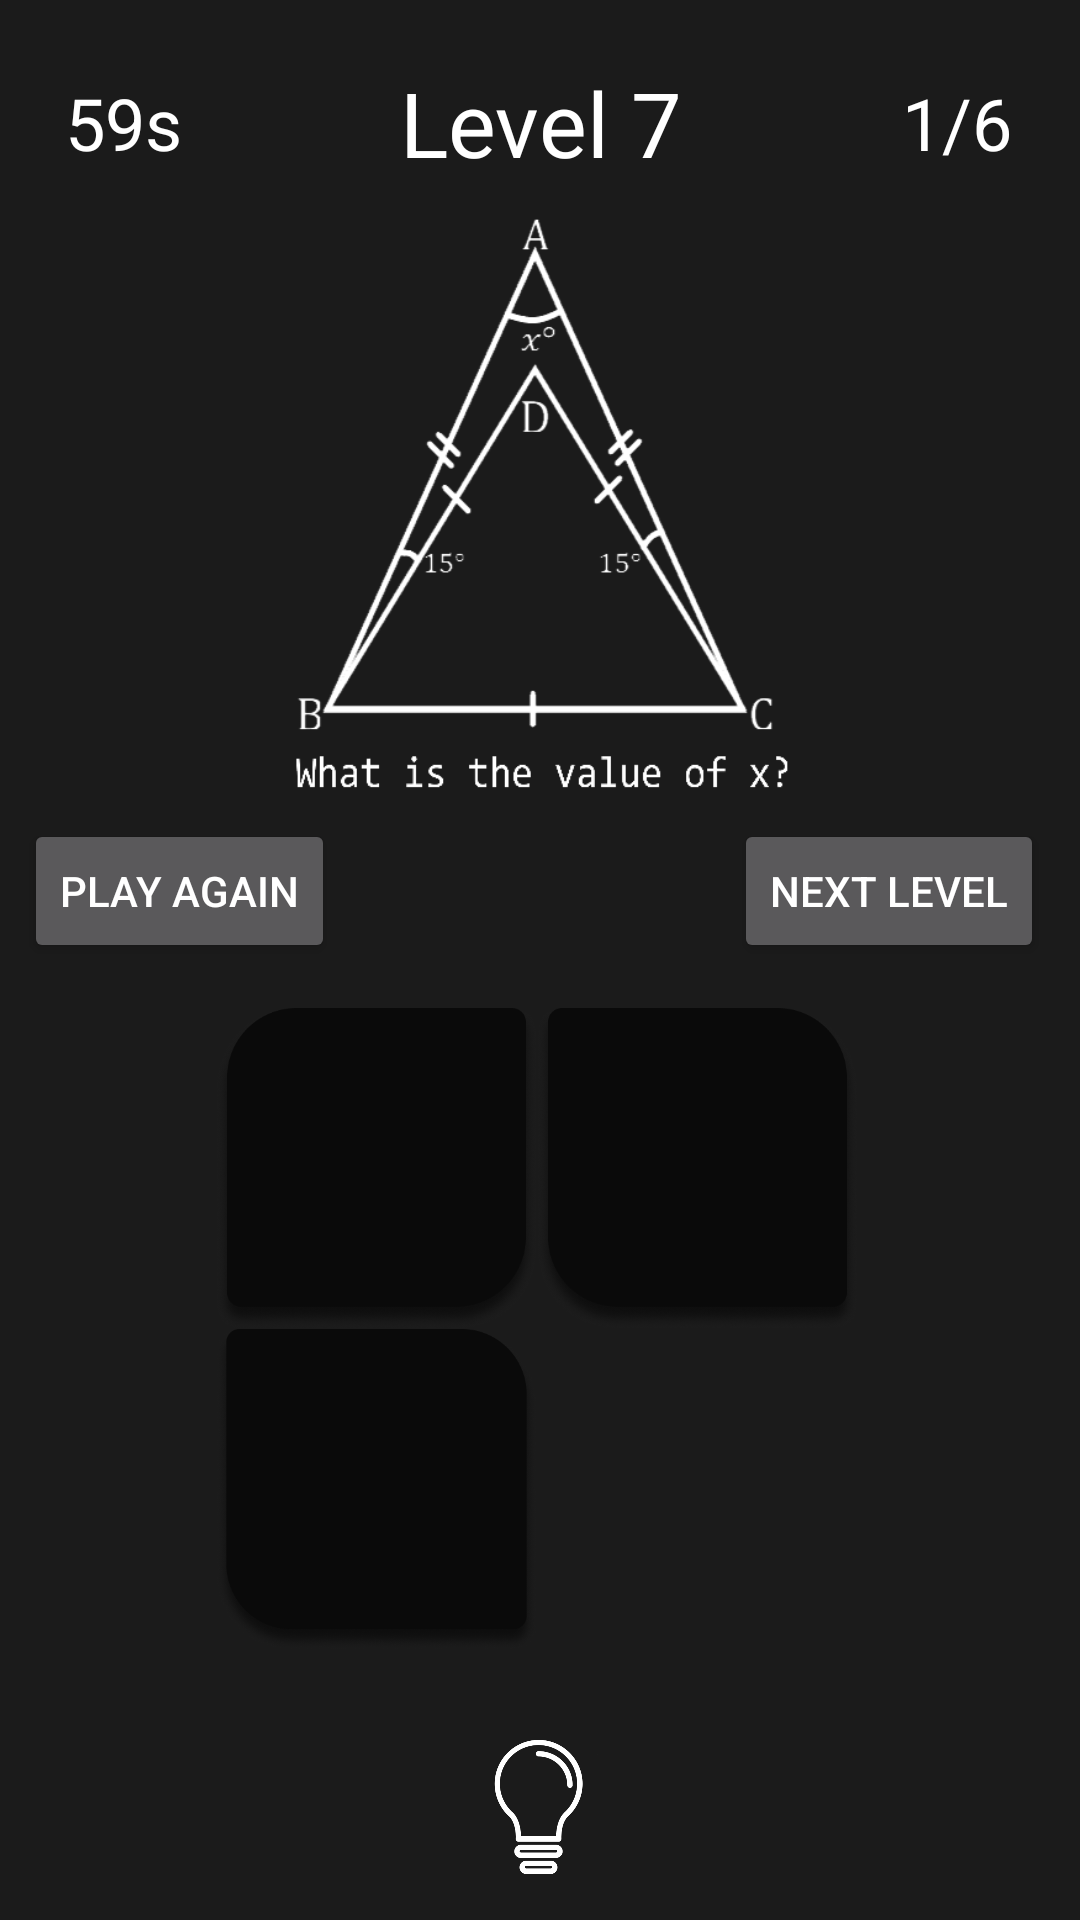

Icon bounding boxes for this 1080*1920 phone screenshot, format (x1, y1, x2, y2):
bulb: (494, 1740, 583, 1874)
